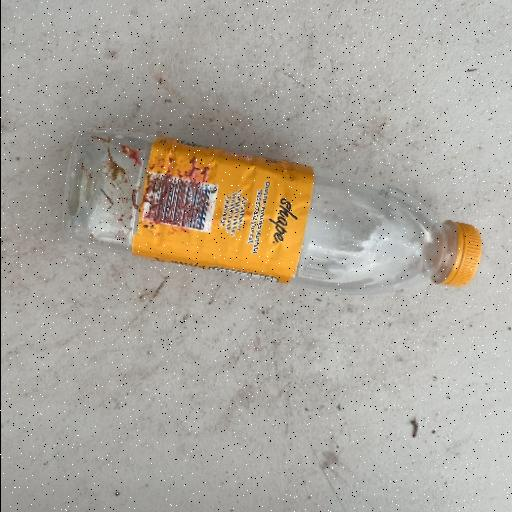Plastic: (62, 125, 484, 298)
